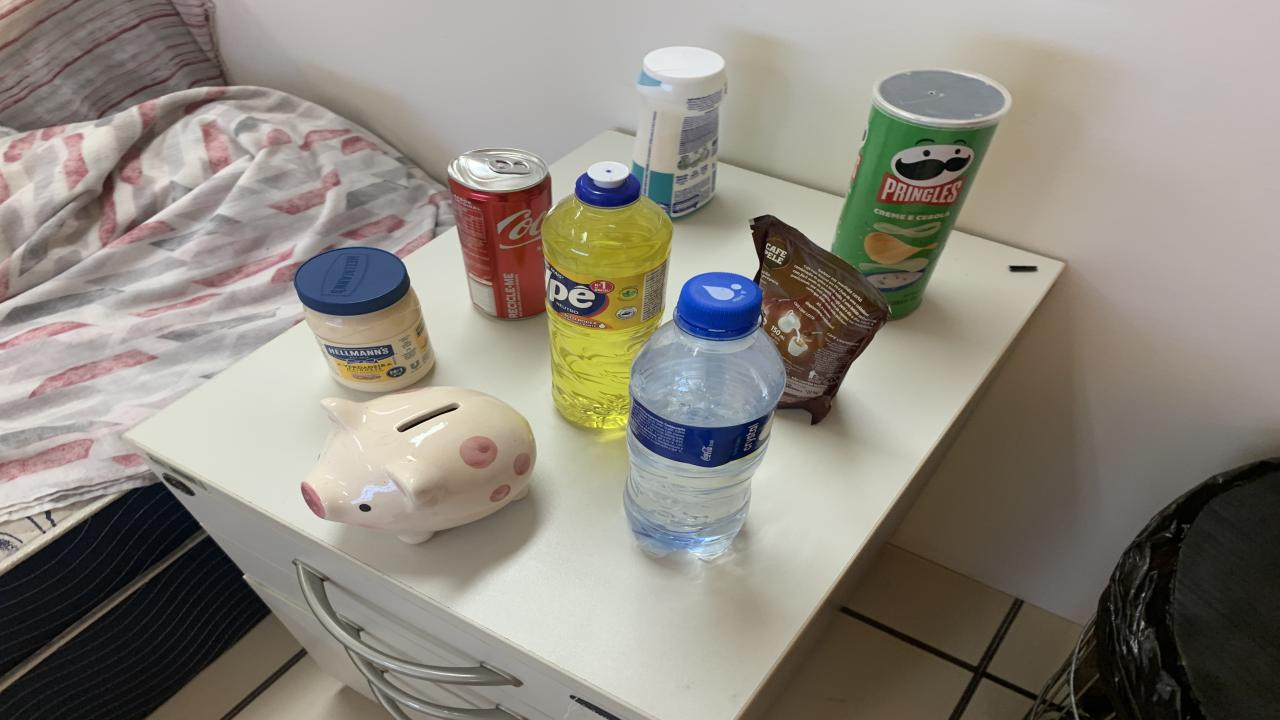Cleaner-Cleanup_Items: (630, 47, 728, 218)
Coffee-Pantry_Items: (750, 216, 890, 424)
Coke-Drinks: (448, 148, 552, 319)
Detergent-Cleanup_Items: (542, 161, 672, 428)
Mayonnaise-Pantry_Items: (295, 248, 435, 392)
Pig_Safe-Miscellaneous: (302, 386, 538, 544)
Pringles-Snacks: (832, 69, 1010, 319)
Water_Bottle-Drinks: (625, 272, 785, 557)
